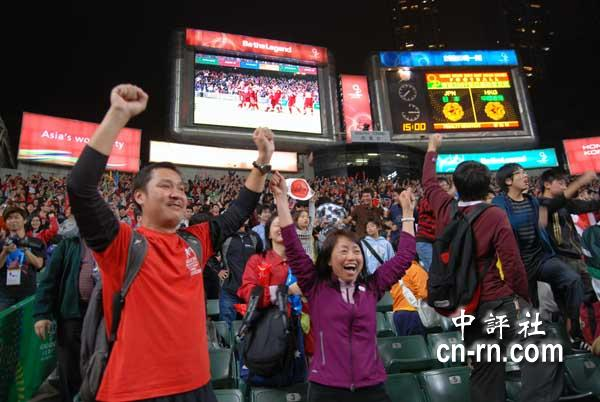handsup: (68, 77, 275, 398), (422, 131, 569, 398), (267, 164, 426, 398)
